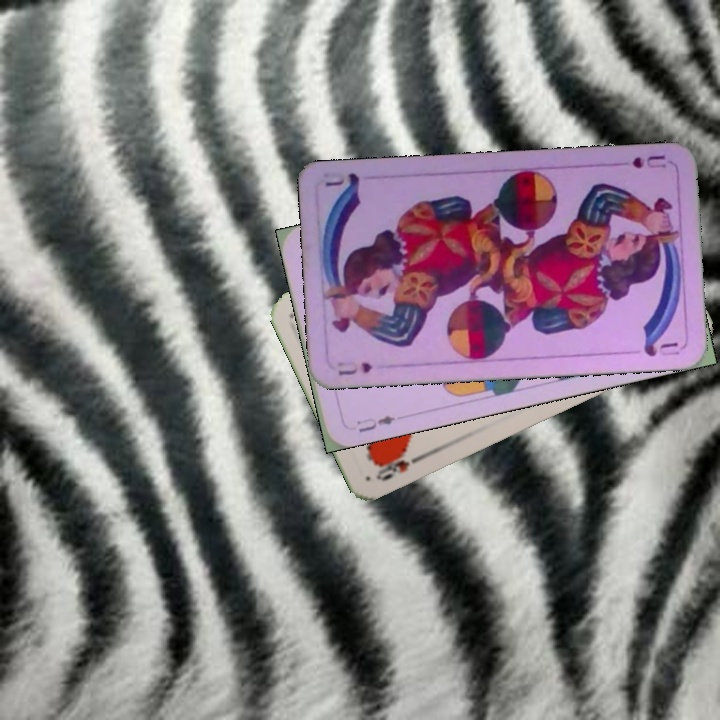EU: (352, 411, 398, 435)
HO: (371, 450, 427, 484)
SU: (612, 150, 669, 171), (334, 358, 375, 378)
